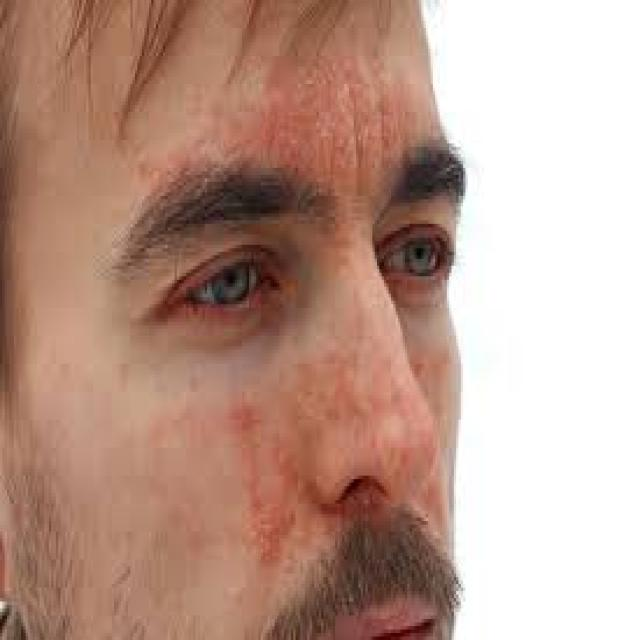Eczema: (264, 80, 410, 168), (234, 395, 294, 585)
